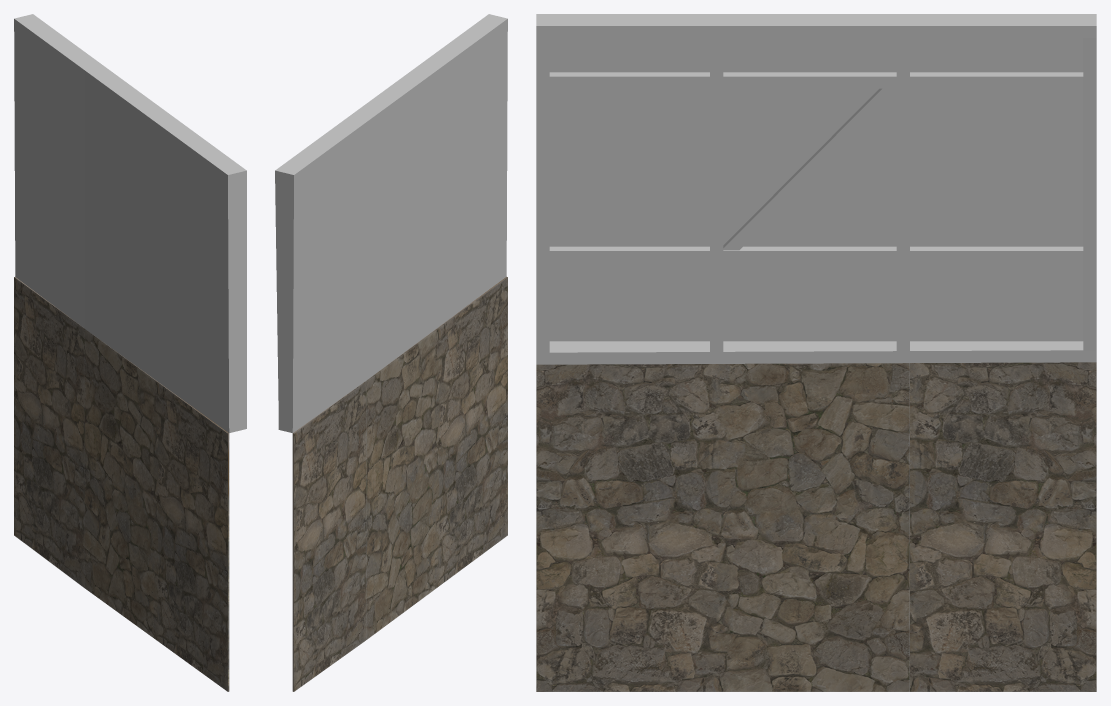
The model's file is HouseWall_3x2_v1.fbx.
3 renders of one model, left to right at view 1: azimuth 30°, elevation 25°; view 2: azimuth 150°, elevation 25°; view 3: azimuth 270°, elevation 25°, orthographic. The views are drawn at different scales.
Parts seen in each view (by area): view 1: Plane.035; view 2: Plane.035; view 3: Plane.035.
Part boxes in pixels (box(x1,y1,x2,y2)): Plane.035: box(14, 14, 246, 691); Plane.035: box(275, 14, 507, 691); Plane.035: box(536, 14, 1096, 691).
Size of the model in its own units: 16.34 by 400 by 300.
